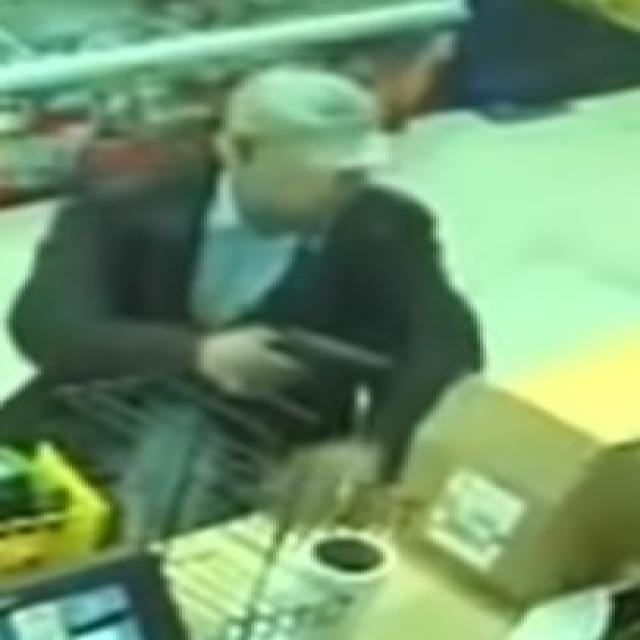gun: (242, 325, 398, 407)
